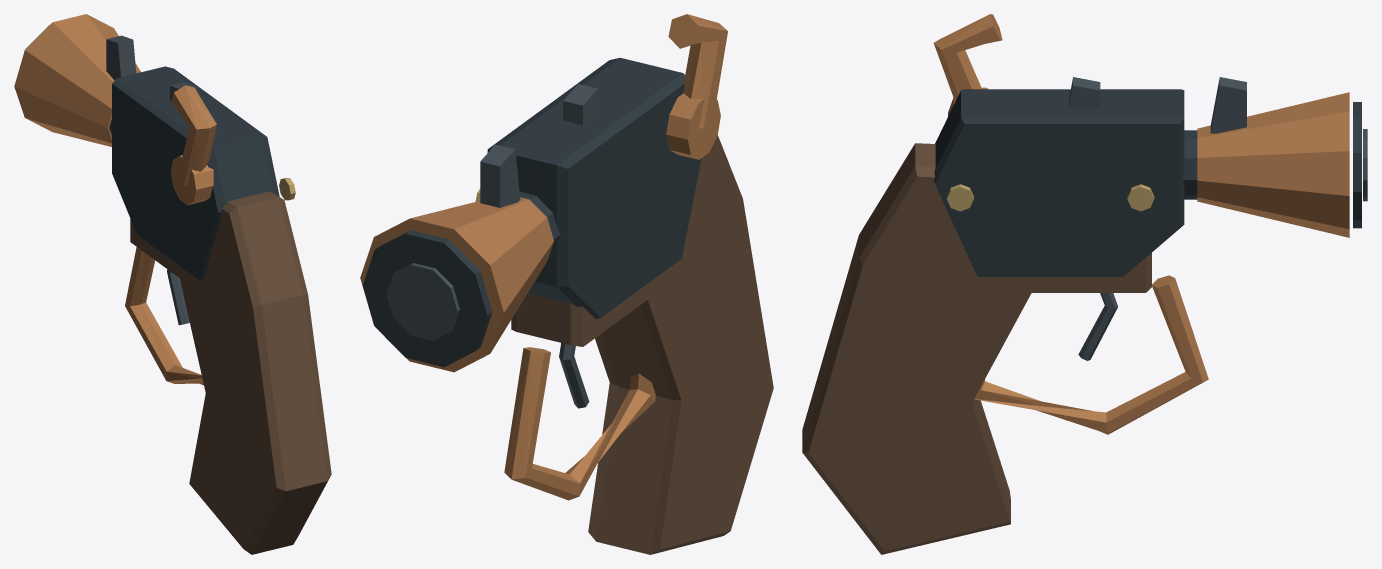
Rendered from AEW_Pistol_DockScatter.fbx.
The picture shows the model from 3 angles, left to right: view 1: azimuth 30°, elevation 25°; view 2: azimuth 150°, elevation 25°; view 3: azimuth 270°, elevation 25°; orthographic projection. The views are drawn at different scales.
Parts seen in each view (by area): view 1: AEW_Pistol_DockScatter; view 2: AEW_Pistol_DockScatter; view 3: AEW_Pistol_DockScatter.
Boxes of the visible parts, x1,y1,x2,y2 form: AEW_Pistol_DockScatter: [14, 14, 331, 554]; AEW_Pistol_DockScatter: [360, 14, 773, 554]; AEW_Pistol_DockScatter: [802, 14, 1367, 554].
Bounding box in the file's own units: 0.1302 × 0.4959 × 0.501.
